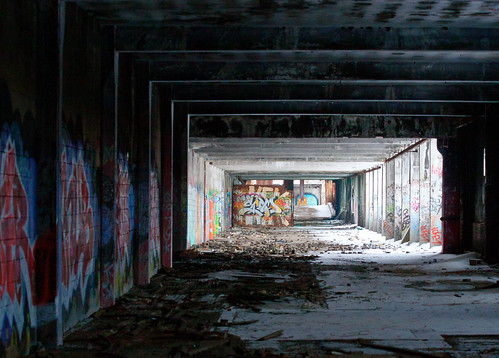graffiti: (1, 130, 174, 358), (230, 188, 293, 225)
tunnel: (160, 89, 499, 358)
